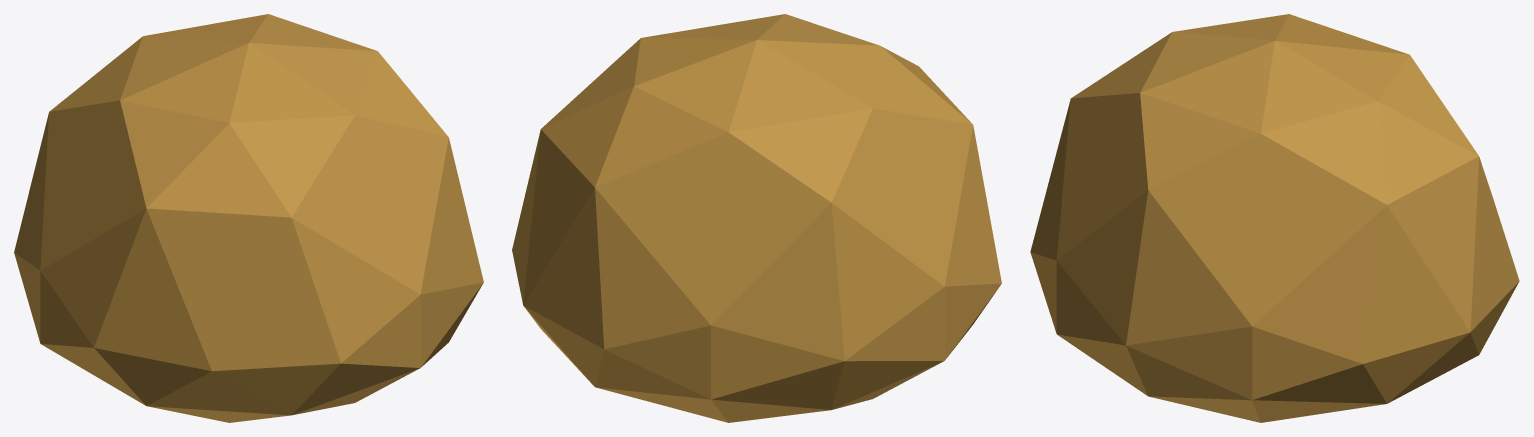
The model's file is bush_orange_2.glb.
3 renders of one model, left to right at view 1: azimuth 30°, elevation 25°; view 2: azimuth 150°, elevation 25°; view 3: azimuth 270°, elevation 25°, orthographic.
Parts seen in each view (by area): view 1: Liurnia Bushes.004; view 2: Liurnia Bushes.004; view 3: Liurnia Bushes.004.
Part boxes in pixels (x1,y1,x2,y2): Liurnia Bushes.004: [14, 14, 483, 422]; Liurnia Bushes.004: [512, 14, 1001, 422]; Liurnia Bushes.004: [1030, 14, 1519, 422].
Size of the model in its own units: 0.071 by 0.0586 by 0.0752.
